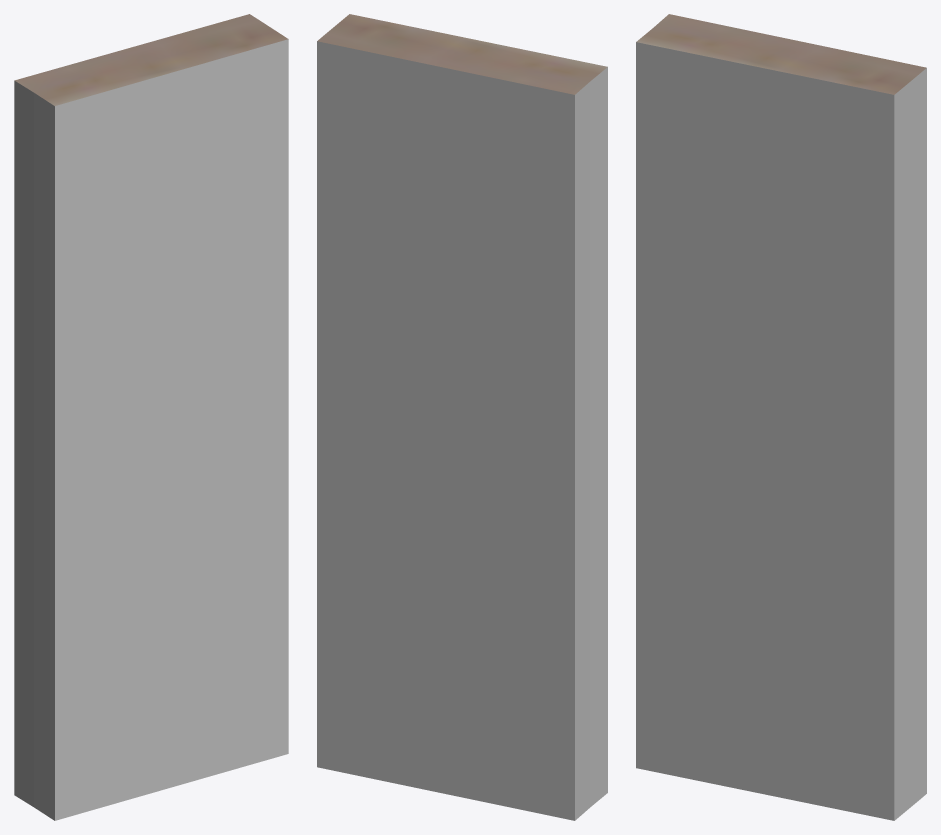
Rendered from DEBW_0010007TI03.gltf.
The picture shows the model from 3 angles, left to right: view 1: azimuth 30°, elevation 25°; view 2: azimuth 150°, elevation 25°; view 3: azimuth 330°, elevation 25°; orthographic projection.
Parts seen in each view (by area): view 1: Z_UP; view 2: Z_UP; view 3: Z_UP.
Part boxes in pixels (x1,y1,x2,y2): Z_UP: [14, 14, 288, 820]; Z_UP: [317, 14, 607, 820]; Z_UP: [636, 14, 926, 820].
Size of the model in its own units: 4.32 by 11.89 by 1.38.
Materials: 2 (1 with a texture image).
